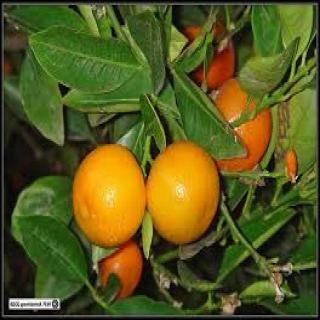orange: (146, 115, 233, 262), (76, 134, 141, 242)
